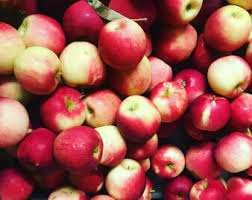apple: (156, 20, 208, 71), (46, 129, 102, 169), (205, 7, 249, 52), (15, 49, 58, 93), (103, 23, 145, 68), (60, 42, 99, 89), (43, 85, 84, 129), (17, 16, 65, 53), (120, 98, 163, 139), (102, 161, 146, 199), (207, 58, 252, 95), (185, 139, 226, 179), (190, 94, 232, 132), (110, 59, 153, 96), (17, 125, 55, 166), (88, 124, 126, 163), (150, 83, 187, 123), (216, 133, 250, 175), (86, 92, 119, 129), (3, 98, 28, 146), (1, 24, 24, 76), (150, 145, 186, 177), (174, 71, 210, 103), (165, 2, 202, 28), (192, 176, 226, 200)
